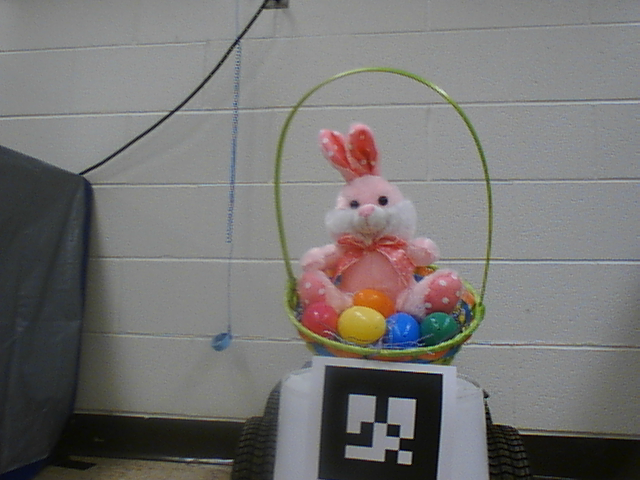bunny: (269, 65, 495, 374)
